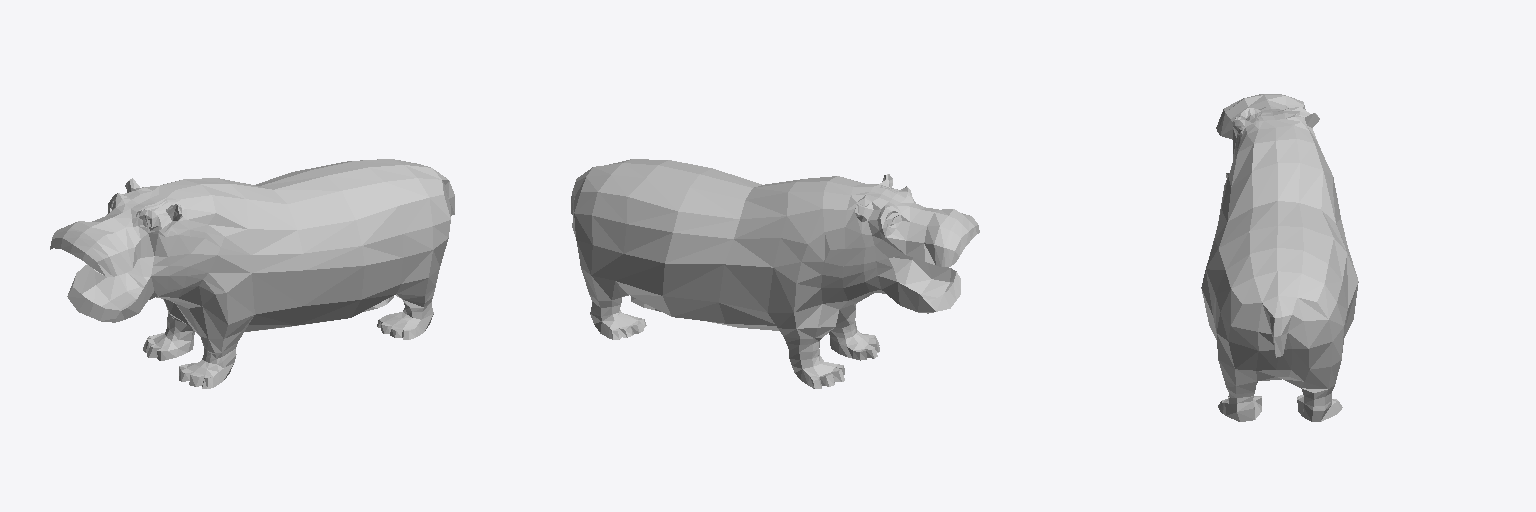
The model's file is LOW REZ TEST.obj.
3 views of the same model, side by side, from view 1: azimuth 30°, elevation 25°; view 2: azimuth 150°, elevation 25°; view 3: azimuth 270°, elevation 25° (orthographic).
Parts seen in each view (by area): view 1: polySurface2; view 2: polySurface2; view 3: polySurface2.
Part boxes in pixels (x1,y1,x2,y2): polySurface2: (50, 159, 454, 388); polySurface2: (571, 159, 979, 388); polySurface2: (1201, 94, 1358, 421).
Bounding box in the file's own units: 119 × 52.78 × 41.28.